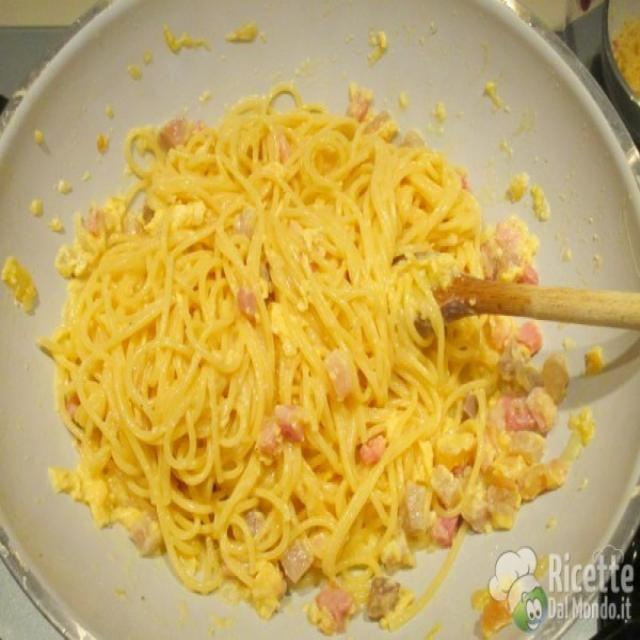Pasta with carbonara sauce: (46, 61, 596, 623)
